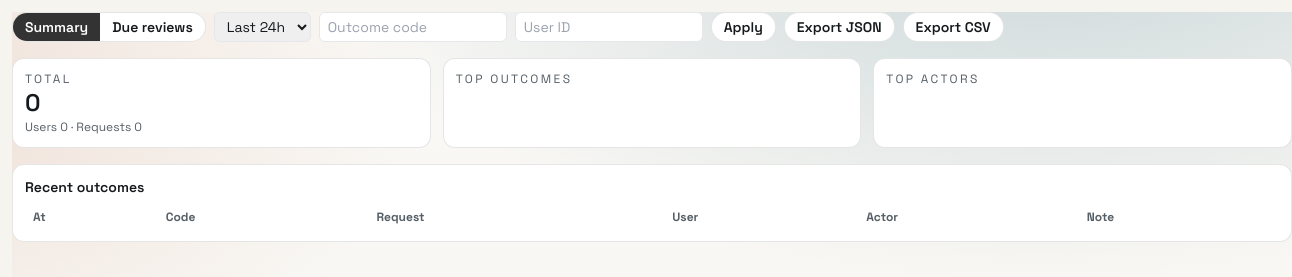
Test: Ops resolutions due reviews UI › renders due tab with request and dossier links
Click the button "Due reviews": x=152, y=27 x1=100 y1=13 x2=205 y2=41
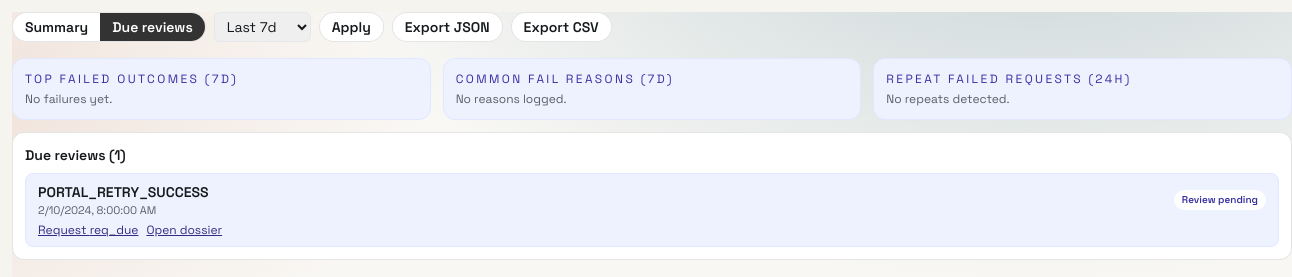
Expected: the text "Due reviews (1)" is shown, x1=25 y1=145 x2=126 y2=165
